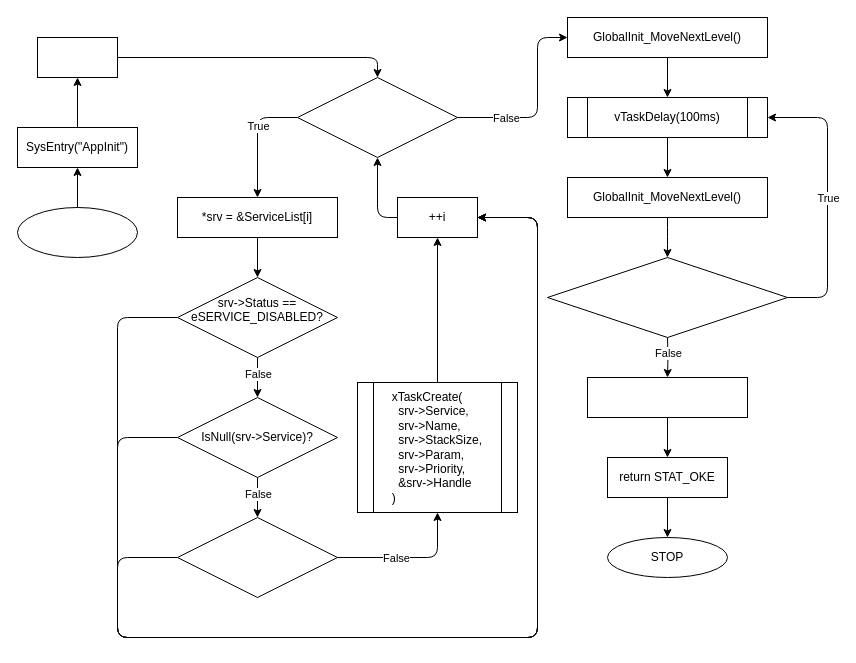
Image size: 856x663. Some labels were removed from this diagram. Each missing label, with the centre of its shape:
GLOBAL_INIT_LEVEL_DONE > GlobalInit_GetLevel()?: (x=667, y=297)
i < N_Services?: (x=377, y=117)
i = 0: (x=77, y=57)
srv->StackSize < MIN_STACK_SIZE?: (x=257, y=557)
START: (x=77, y=232)
SysExit("AppInit"): (x=667, y=397)
